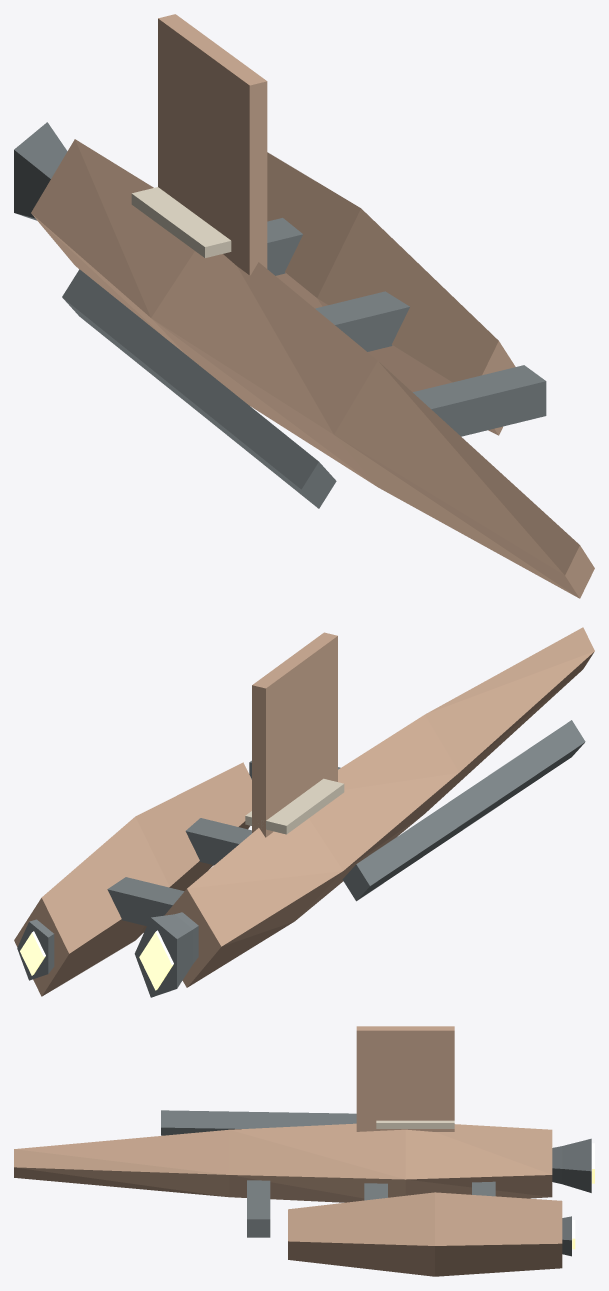
3 views of the same model, one above another, from view 1: azimuth 30°, elevation 25°; view 2: azimuth 150°, elevation 25°; view 3: azimuth 270°, elevation 25° (orthographic). The views are drawn at different scales.
Size of the model in its own units: 5.82 by 5.86 by 15.23.
